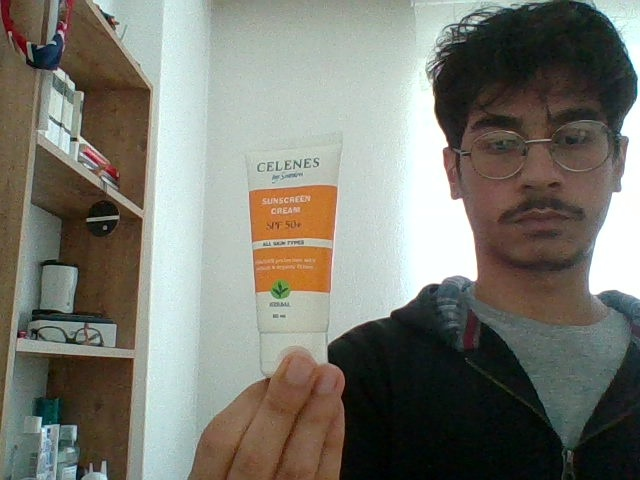CelenesSunCream: (240, 133, 344, 336)
